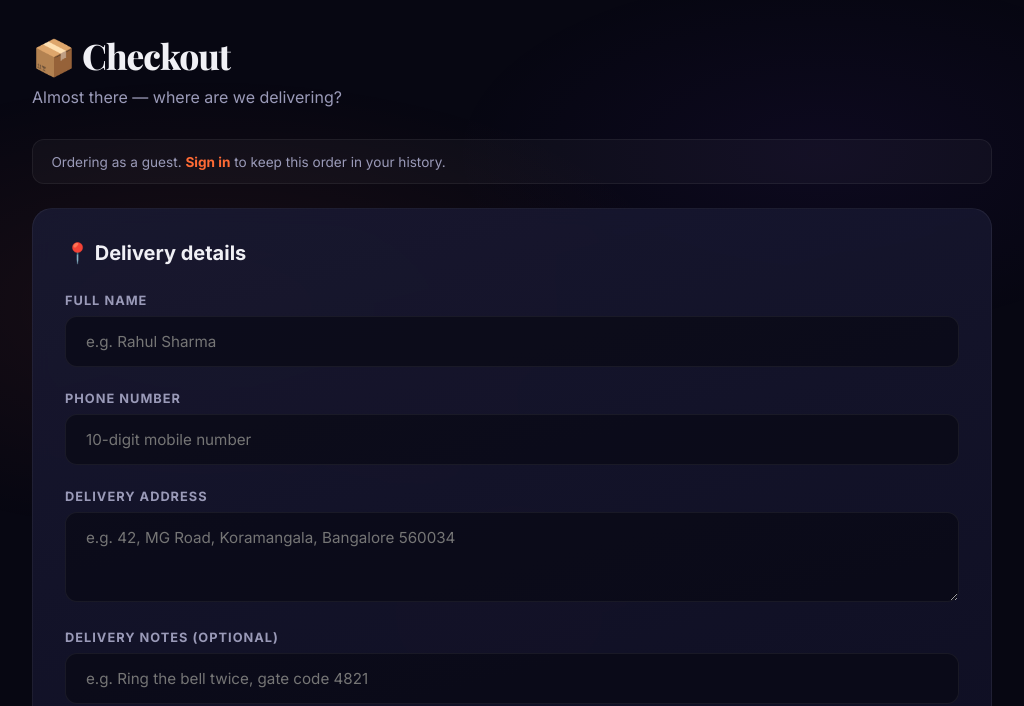
it: CheckoutPage › rejects a phone number that is too short
The width and height of the screenshot is (1024, 706).
Type "Rahul Sharma" into the field labelled "Full name" at (512, 342), box 65,316 -> 959,367
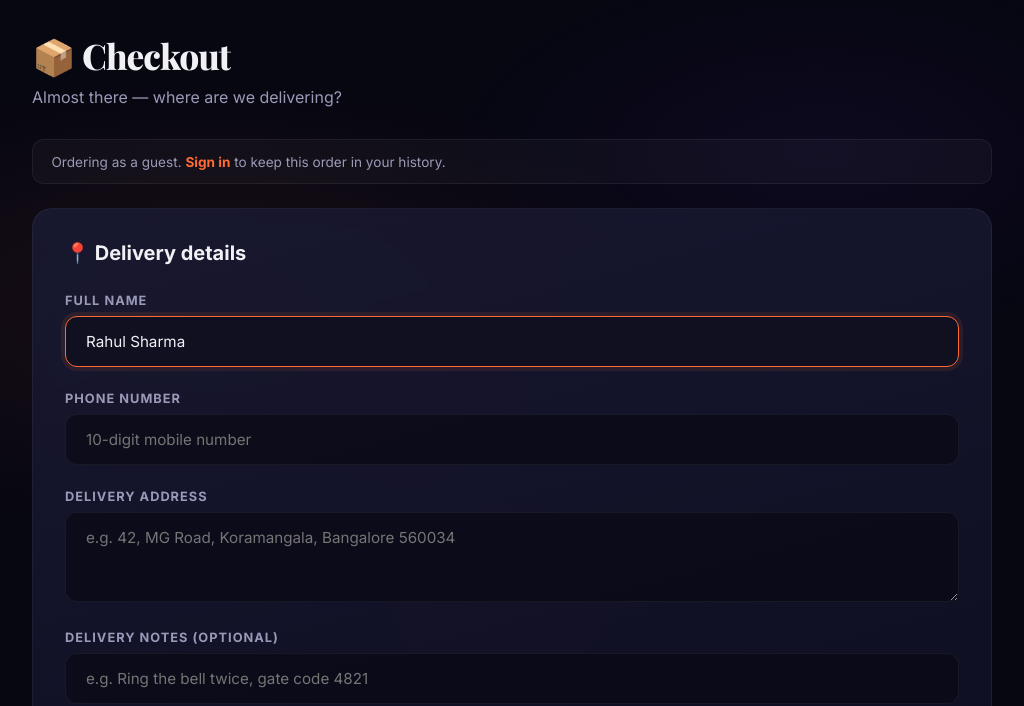
Type "98765" into the field labelled "Phone number" at (512, 440), box 65,414 -> 959,465
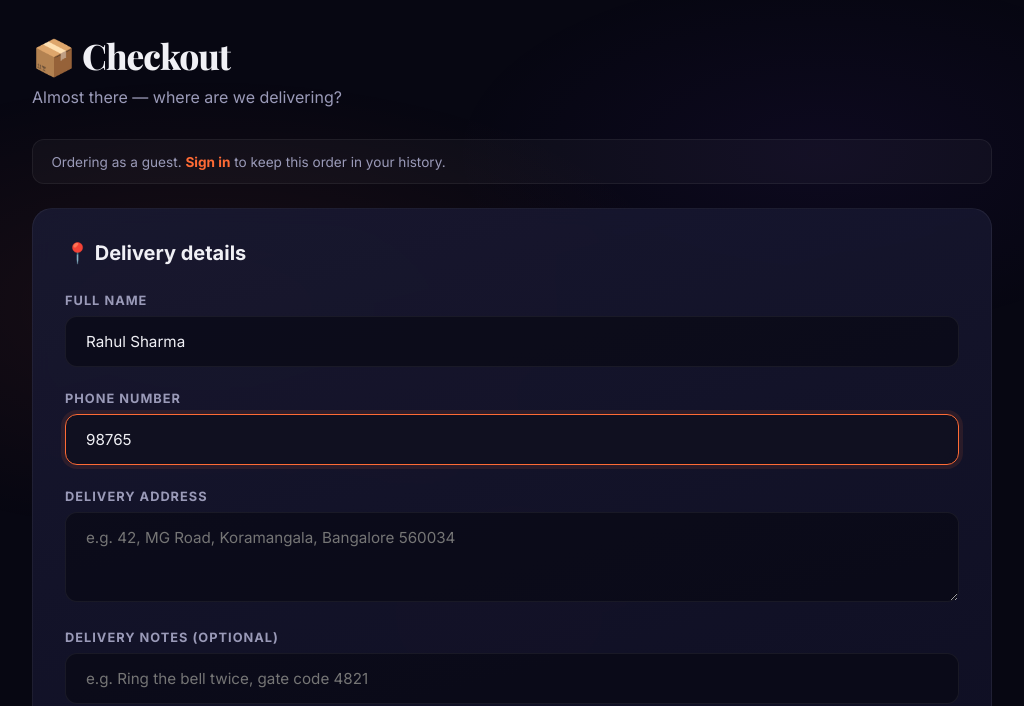
Type "42, MG Road, Koramangala, Bangalore 560034" into the text box labelled "Delivery address" at (512, 557), box 65,512 -> 959,602
(page scrolled)
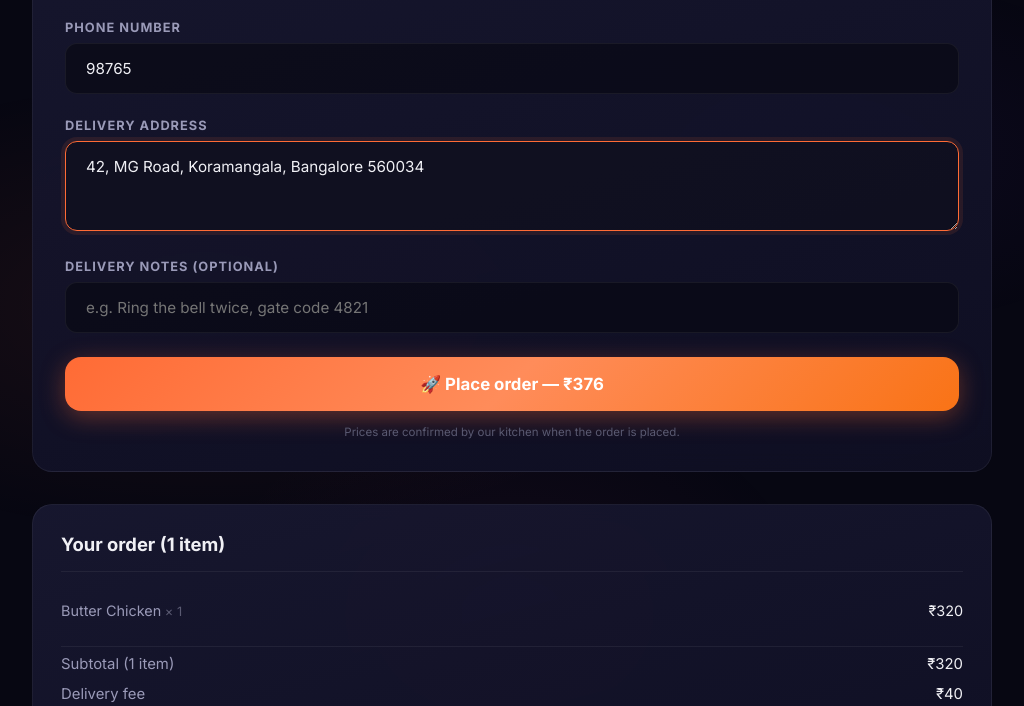
Click the button "🚀 Place order — ₹376" at (512, 384), box 65,357 -> 959,411
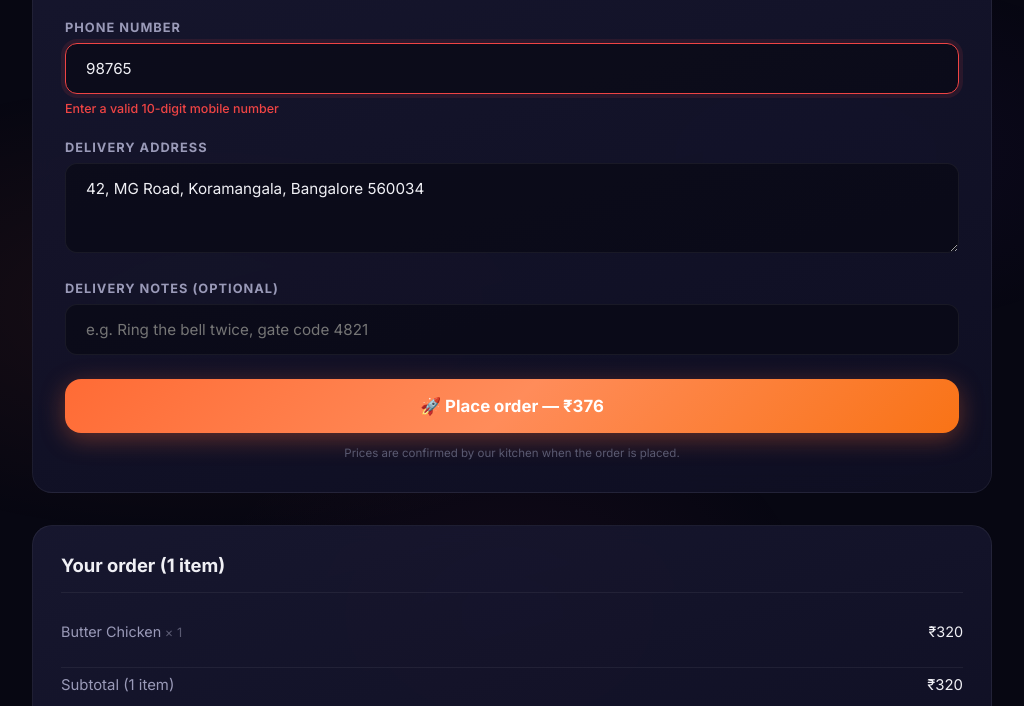
Expected: the text "Enter a valid 10-digit mobile number" is shown, 65,101 -> 279,116
